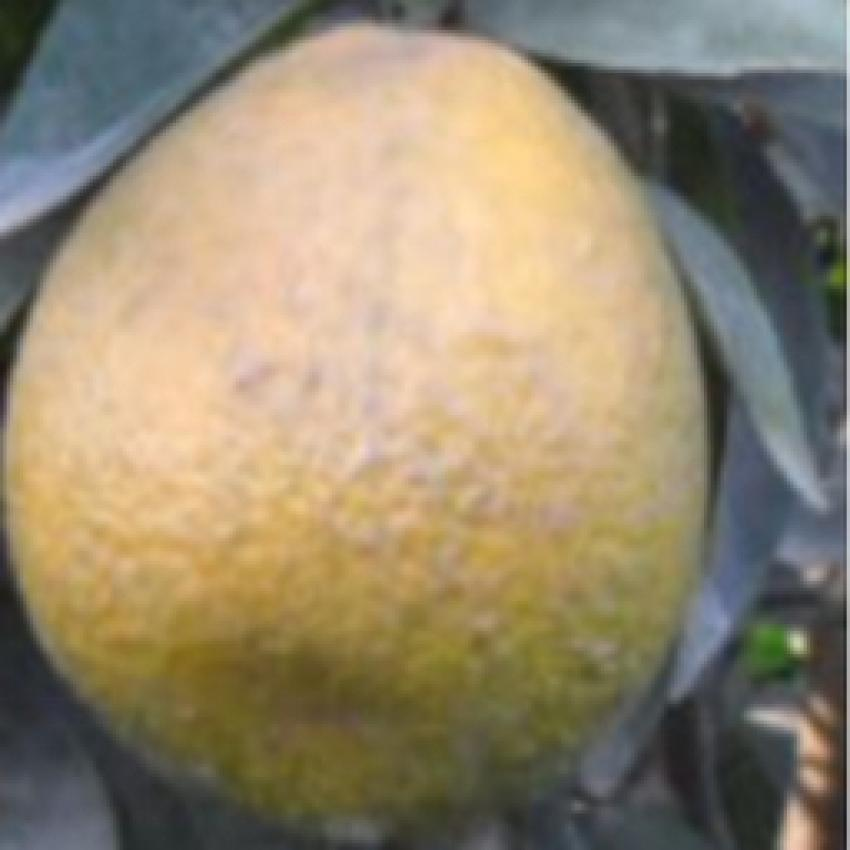Mal estado: (0, 17, 727, 832)
